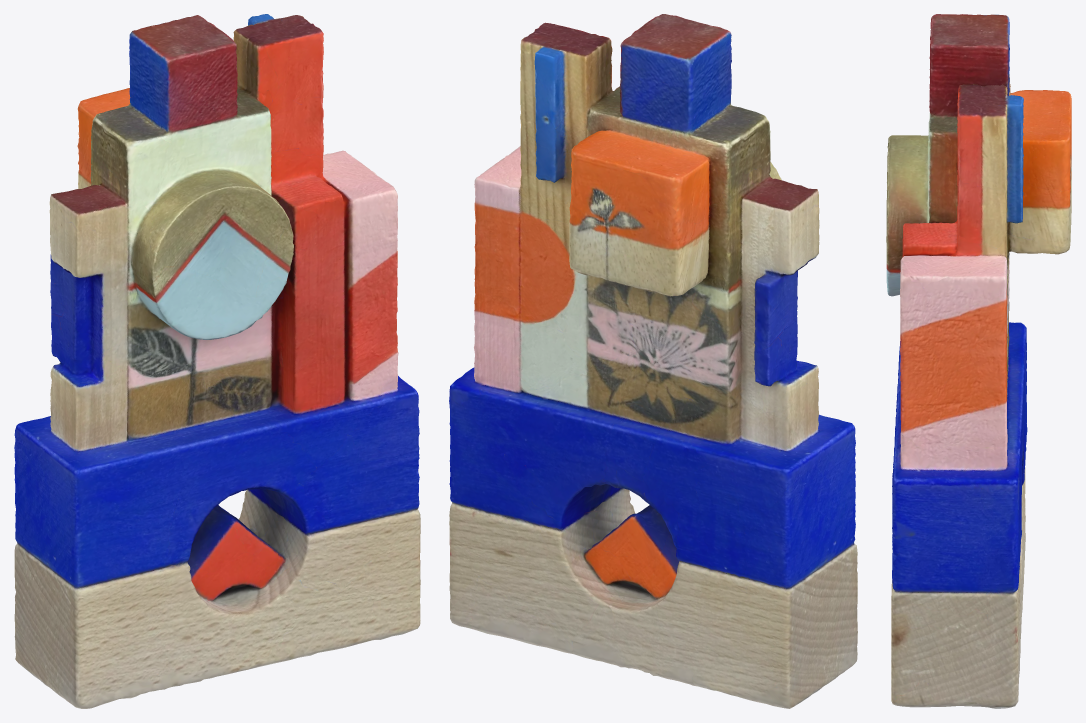
File: Kompleks_02.glb
The picture shows the model from 3 angles, left to right: view 1: azimuth 30°, elevation 25°; view 2: azimuth 150°, elevation 25°; view 3: azimuth 270°, elevation 25°; orthographic projection. The views are drawn at different scales.
Visible parts, largest first — view 1: Geom; view 2: Geom; view 3: Geom.
Part boxes in pixels (x1,y1,x2,y2): Geom: (14,14,420,708); Geom: (449,14,857,708); Geom: (886,14,1071,708).
Bounding box in the file's own units: 0.1225 × 0.2099 × 0.0597.
1 material, 1 textured.
